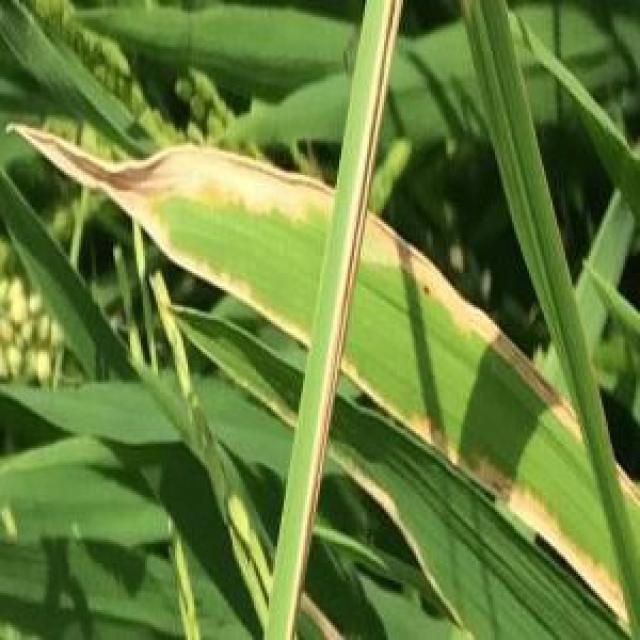Bacterial_Blight: (365, 212, 582, 438), (408, 408, 628, 616), (5, 121, 333, 220)
